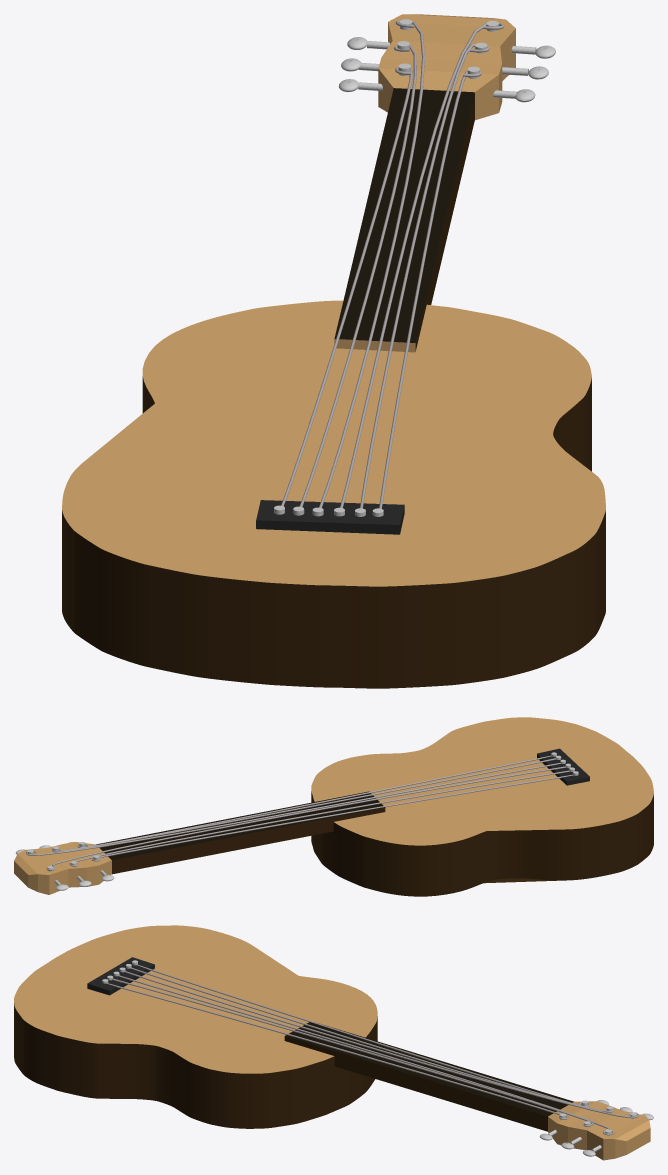
The model's file is guitar.fbx.
3 views of the same model, one above another, from view 1: azimuth 30°, elevation 25°; view 2: azimuth 150°, elevation 25°; view 3: azimuth 270°, elevation 25° (orthographic). The views are drawn at different scales.
Visible parts, largest first — view 1: BézierCurve, BézierCurve.001, Cube.001; view 2: BézierCurve, BézierCurve.001, Cube.001; view 3: BézierCurve, BézierCurve.001, Cube.001.
Boxes of the visible parts, left/top/right/bottom form: BézierCurve: left=62, top=14, right=605, bottom=688; BézierCurve.001: left=281, top=20, right=504, bottom=508; Cube.001: left=256, top=500, right=404, bottom=534; BézierCurve: left=14, top=717, right=653, bottom=896; BézierCurve.001: left=26, top=755, right=573, bottom=870; Cube.001: left=537, top=748, right=589, bottom=785; BézierCurve: left=14, top=925, right=653, bottom=1160; BézierCurve.001: left=107, top=964, right=638, bottom=1135; Cube.001: left=87, top=957, right=154, bottom=995.
Size of the model in its own units: 318 by 42.47 by 379.
